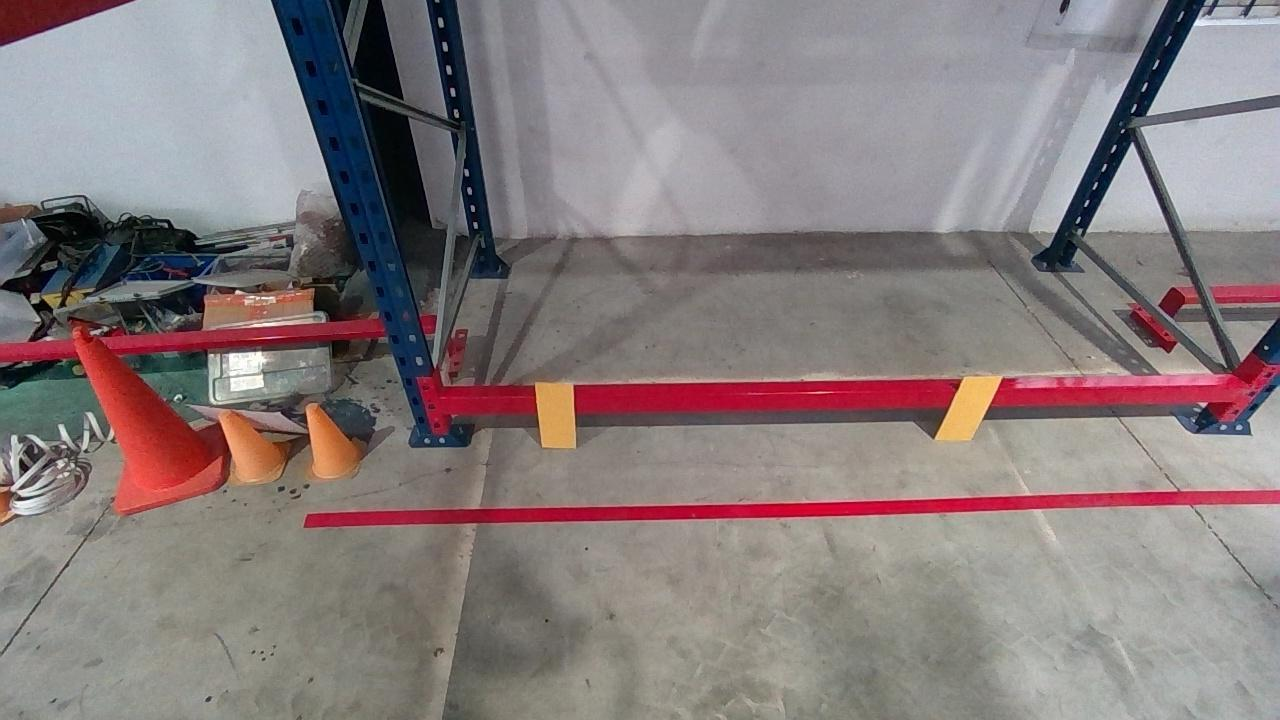h_rack: (446, 383, 1243, 415)
orange_strip: (933, 375, 1006, 441), (533, 383, 576, 447)
red_line: (301, 490, 1271, 526)
